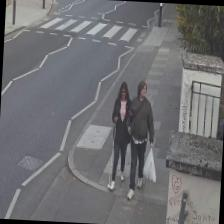person: (122, 79, 156, 200), (108, 80, 132, 190)
